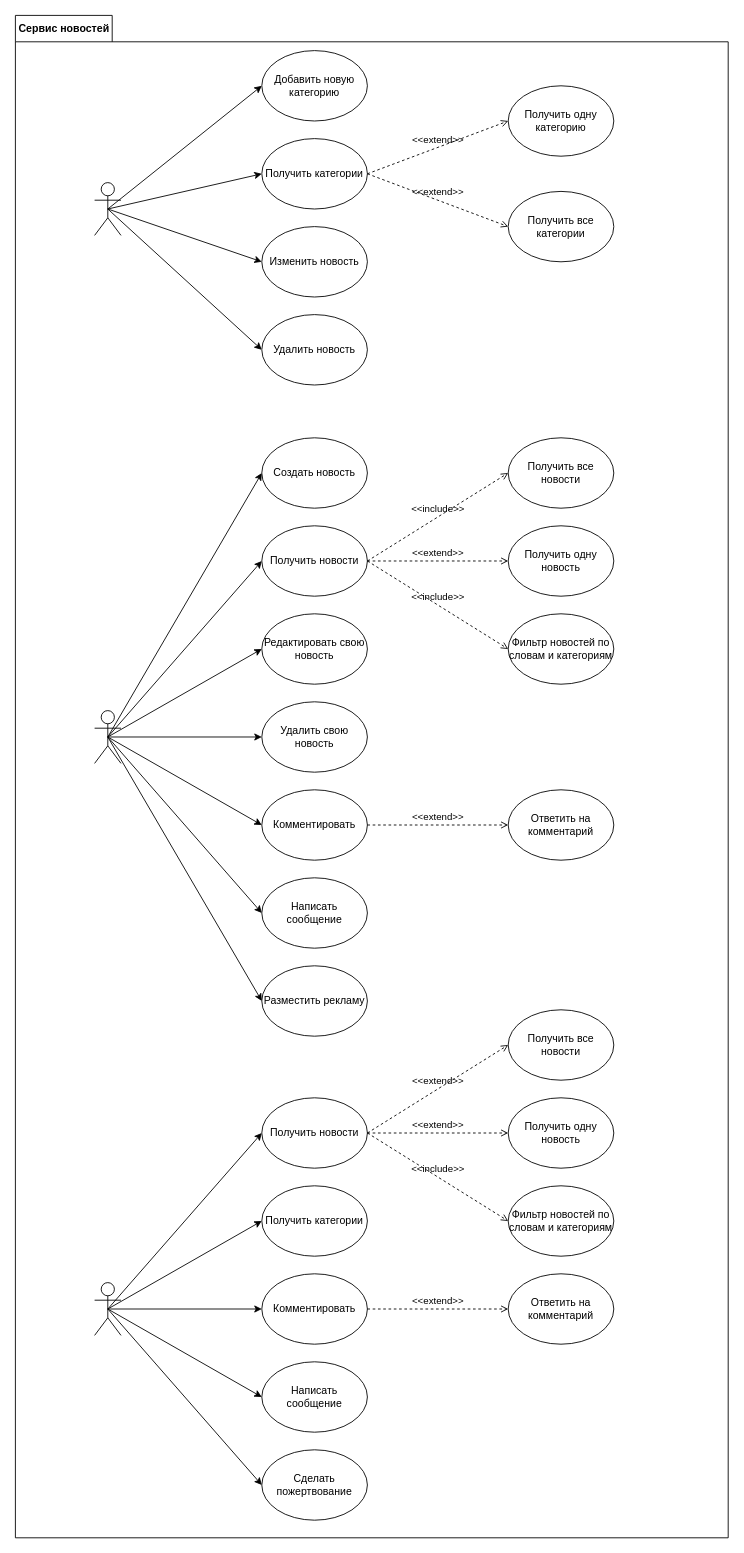
Some shapes in this 744 by 1553 pixel diagram are drawn without their labels. The shapes that lost their labels are listed below. From the top down, each one's centre as x and y in pixels, then its label:
At pixel 107 208: "Администратор".
At pixel 107 736: "Автор".
At pixel 107 1308: "Читатель".
